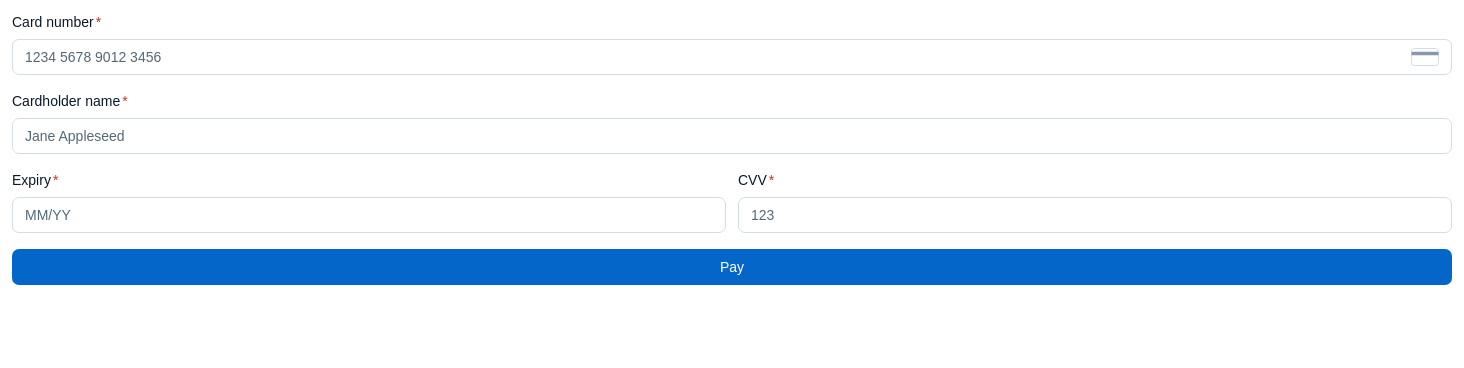
Test: CreditCardForm › formats the number and rejects a bad Luhn
The width and height of the screenshot is (1464, 368).
Type "4242424242424241" into the field labelled "Card number*". click: [714, 57]
box: [25,46,1403,68]
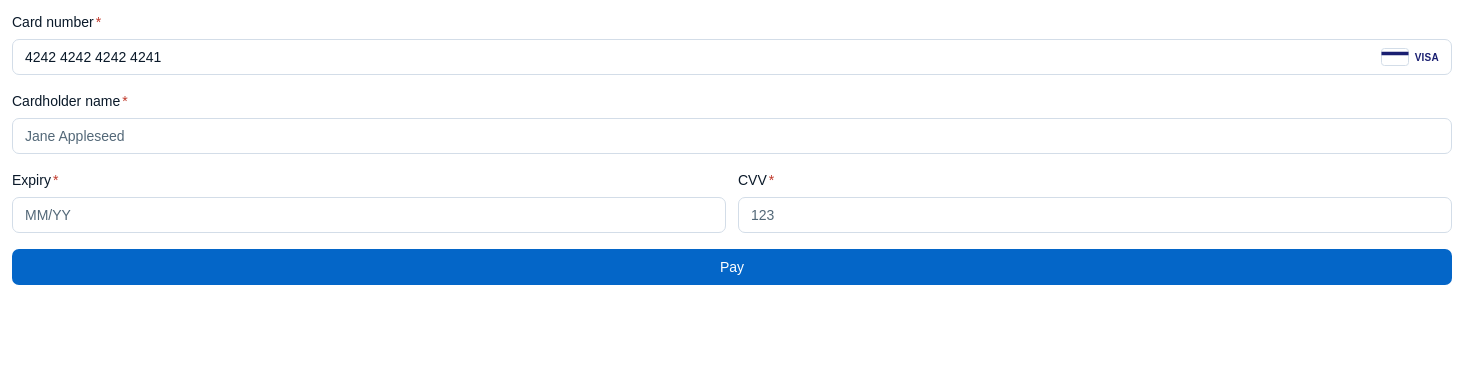
Check: the field labelled "Card number*" holds "4242 4242 4242 4241", box [25,46,1373,68]
Click the button "Pay". click: [732, 267]
box: [12,249,1452,285]
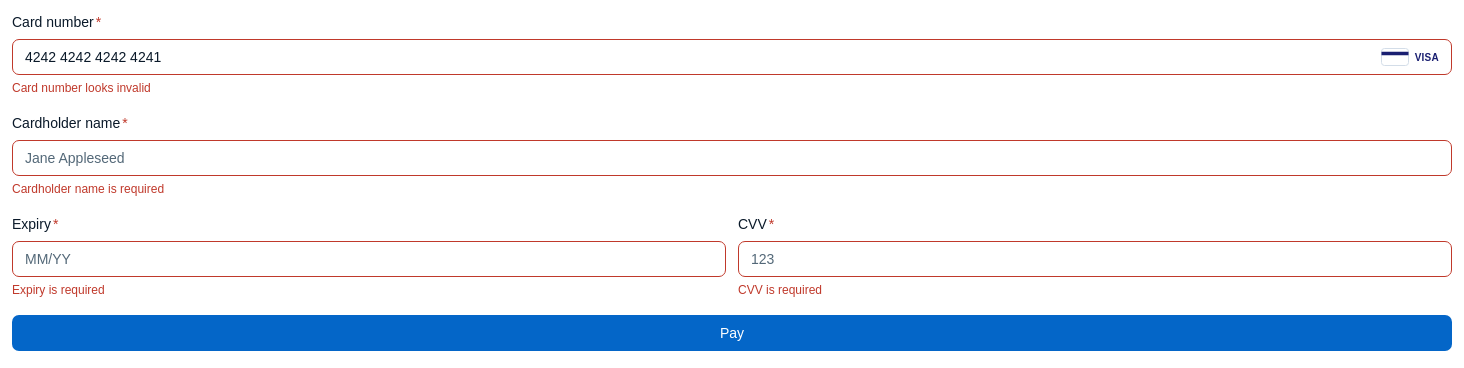
Check: the text "Card number looks invalid" is shown, box [12,81,151,95]
